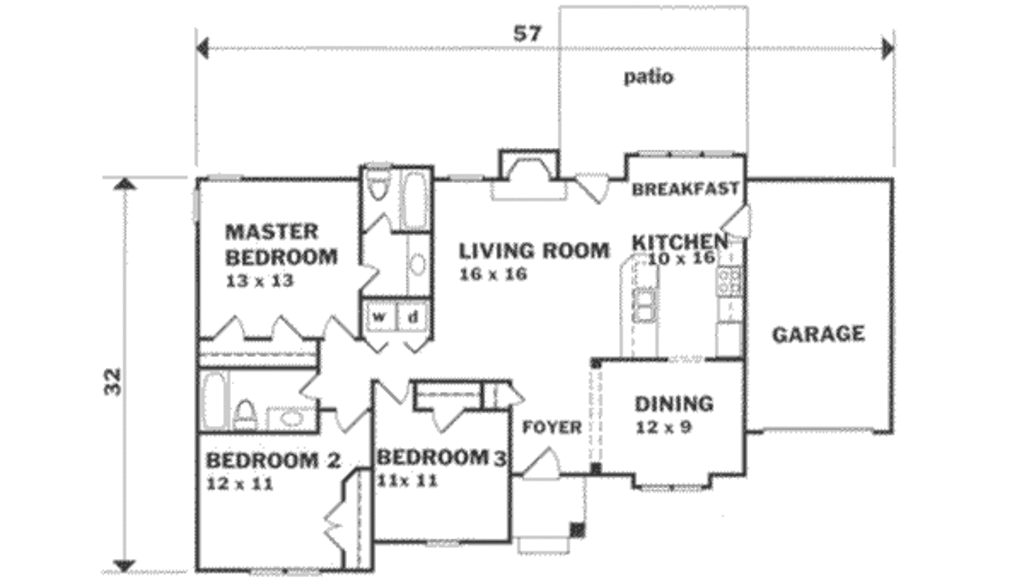door: (514, 444, 570, 482), (575, 166, 616, 207), (210, 311, 252, 342), (718, 206, 760, 236), (323, 498, 348, 548), (374, 375, 413, 407), (328, 405, 368, 432), (268, 316, 310, 341), (298, 372, 332, 402), (316, 315, 355, 340), (429, 408, 466, 434), (360, 214, 395, 239), (356, 264, 380, 291)
large_sink: (366, 164, 393, 206), (233, 396, 254, 432)
small_sink: (402, 244, 434, 299), (262, 404, 317, 433)
tub: (191, 363, 233, 433), (398, 167, 429, 230)
twin_sink: (628, 290, 668, 323)
window: (636, 144, 730, 159), (249, 562, 331, 579), (209, 173, 253, 187), (424, 536, 462, 544)
